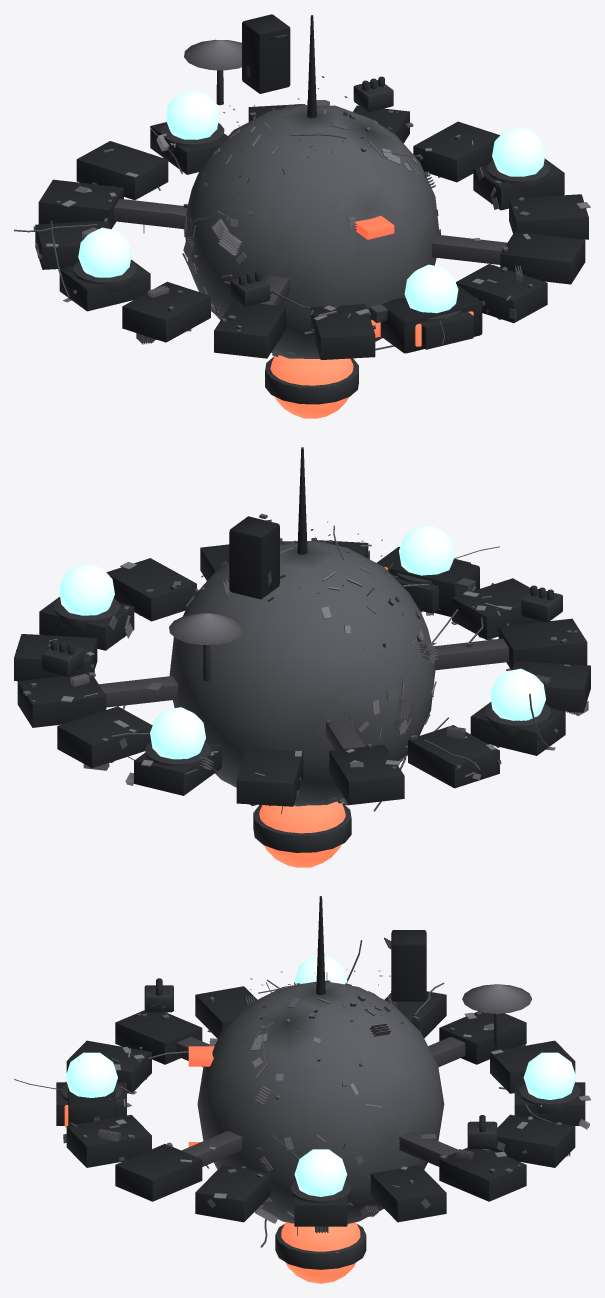
Rendered from base_bastion.glb.
3 renders of one model, top to bottom at view 1: azimuth 30°, elevation 25°; view 2: azimuth 150°, elevation 25°; view 3: azimuth 270°, elevation 25°, orthographic. The views are drawn at different scales.
Visible parts, largest first — view 1: BastionHull, SUB_reactor, SUB_command, SUB_hangar, SUB_shield_0, SUB_shield_2, SUB_shield_1, SUB_shield_3, SUB_radar, SUB_launcher_1, SUB_launcher_0; view 2: BastionHull, SUB_reactor, SUB_command, SUB_shield_0, SUB_shield_2, SUB_shield_1, SUB_shield_3, SUB_radar, SUB_hangar, SUB_launcher_1, SUB_launcher_0; view 3: BastionHull, SUB_reactor, SUB_shield_1, SUB_command, SUB_shield_0, SUB_shield_3, SUB_radar, SUB_hangar, SUB_shield_2, SUB_launcher_0, SUB_launcher_1.
Boxes of the visible parts, box(x1,y1,x2,y2) form: BastionHull: box(14, 15, 590, 359); SUB_reactor: box(265, 355, 358, 418); SUB_command: box(242, 14, 290, 93); SUB_hangar: box(369, 285, 482, 353); SUB_shield_0: box(487, 126, 550, 191); SUB_shield_2: box(73, 227, 136, 292); SUB_shield_1: box(161, 89, 224, 151); SUB_shield_3: box(404, 264, 460, 321); SUB_radar: box(184, 39, 241, 105); SUB_launcher_1: box(230, 271, 270, 306); SUB_launcher_0: box(353, 76, 393, 111); BastionHull: box(14, 447, 590, 813); SUB_reactor: box(253, 801, 351, 867); SUB_command: box(229, 516, 279, 599); SUB_shield_0: box(53, 563, 119, 630); SUB_shield_2: box(485, 668, 551, 736); SUB_shield_1: box(145, 707, 210, 772); SUB_shield_3: box(396, 525, 454, 584); SUB_radar: box(169, 613, 244, 681); SUB_hangar: box(377, 547, 479, 616); SUB_launcher_1: box(521, 585, 562, 622); SUB_launcher_0: box(42, 639, 83, 676); BastionHull: box(14, 896, 590, 1247); SUB_reactor: box(275, 1222, 366, 1283); SUB_shield_1: box(519, 1052, 580, 1113); SUB_command: box(384, 930, 426, 1001); SUB_shield_0: box(290, 1149, 351, 1203); SUB_shield_3: box(61, 1052, 122, 1100); SUB_radar: box(462, 984, 531, 1046); SUB_hangar: box(64, 1081, 115, 1127); SUB_shield_2: box(294, 955, 347, 984); SUB_launcher_0: box(467, 1115, 497, 1148); SUB_launcher_1: box(144, 978, 173, 1012).
Size of the model in its own units: 183 by 144 by 196.
